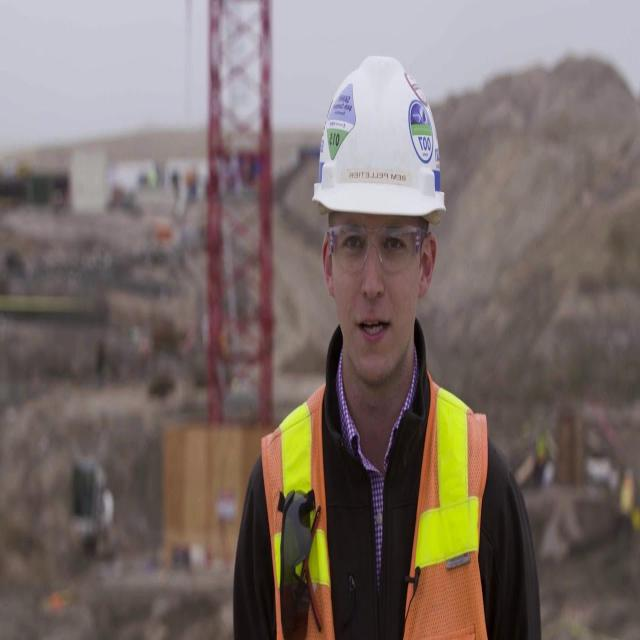Reflective-Jacket: (259, 379, 500, 640)
Safety-Helmet: (310, 46, 448, 230)
